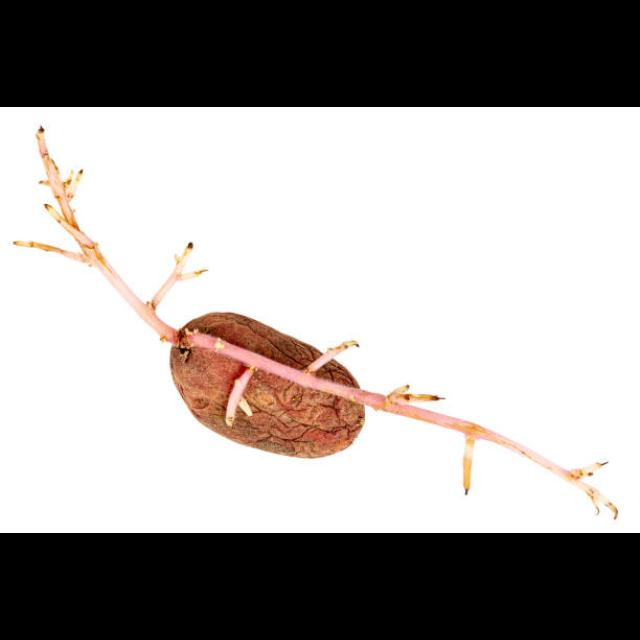Sprouted potato: (145, 107, 632, 483), (1, 115, 369, 533)
